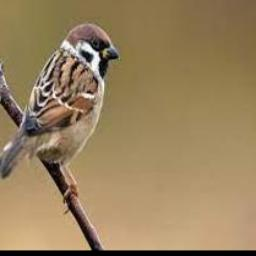Sparrow: (0, 23, 119, 207)
